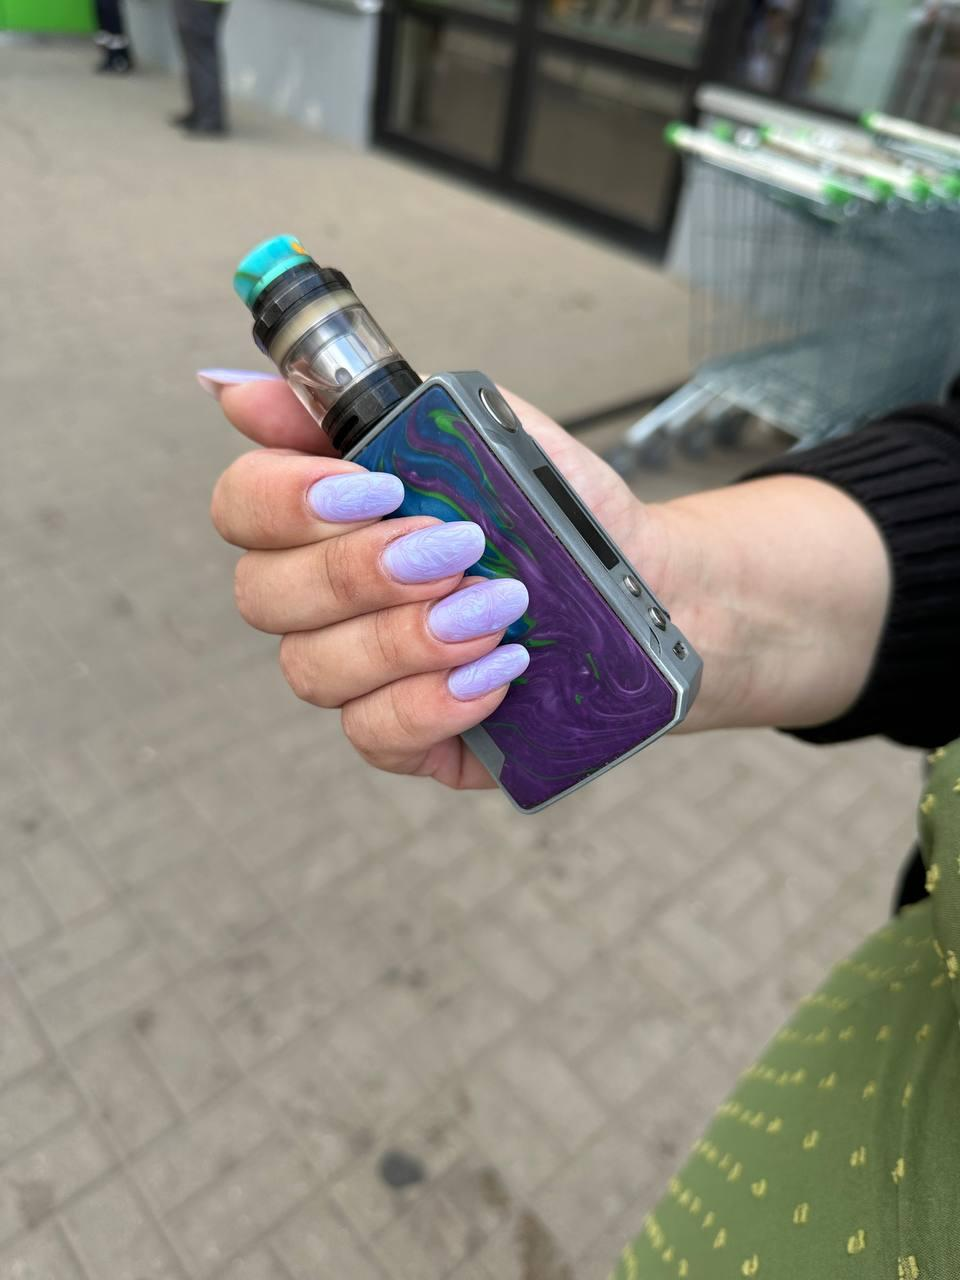Vape: (235, 236, 701, 812)
